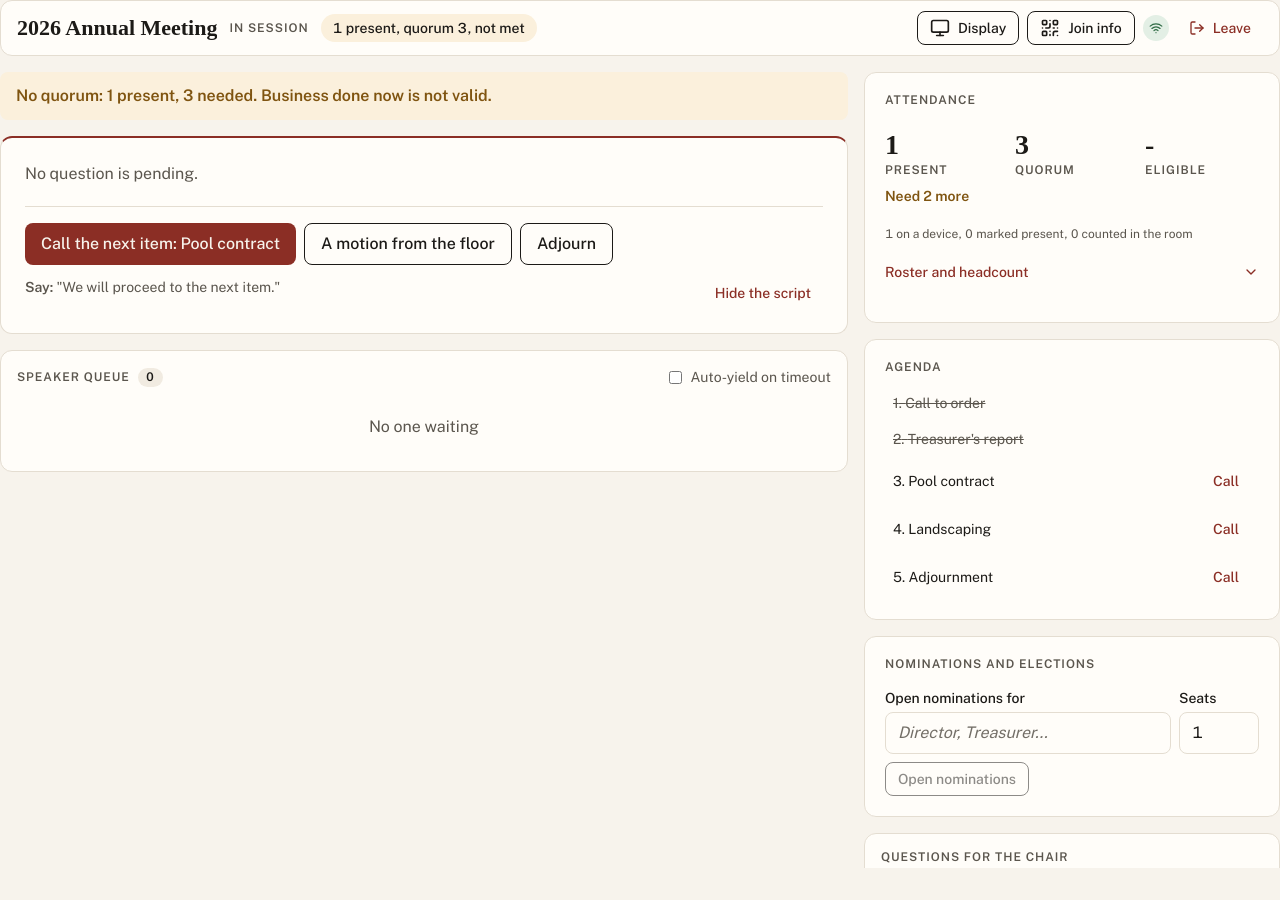
ChairConsole › adjourning › closes the confirmation when the meeting moves on while it is open
This screenshot has width=1280, height=900.
Click the button "Adjourn" at (567, 244), box [520,223,613,265]
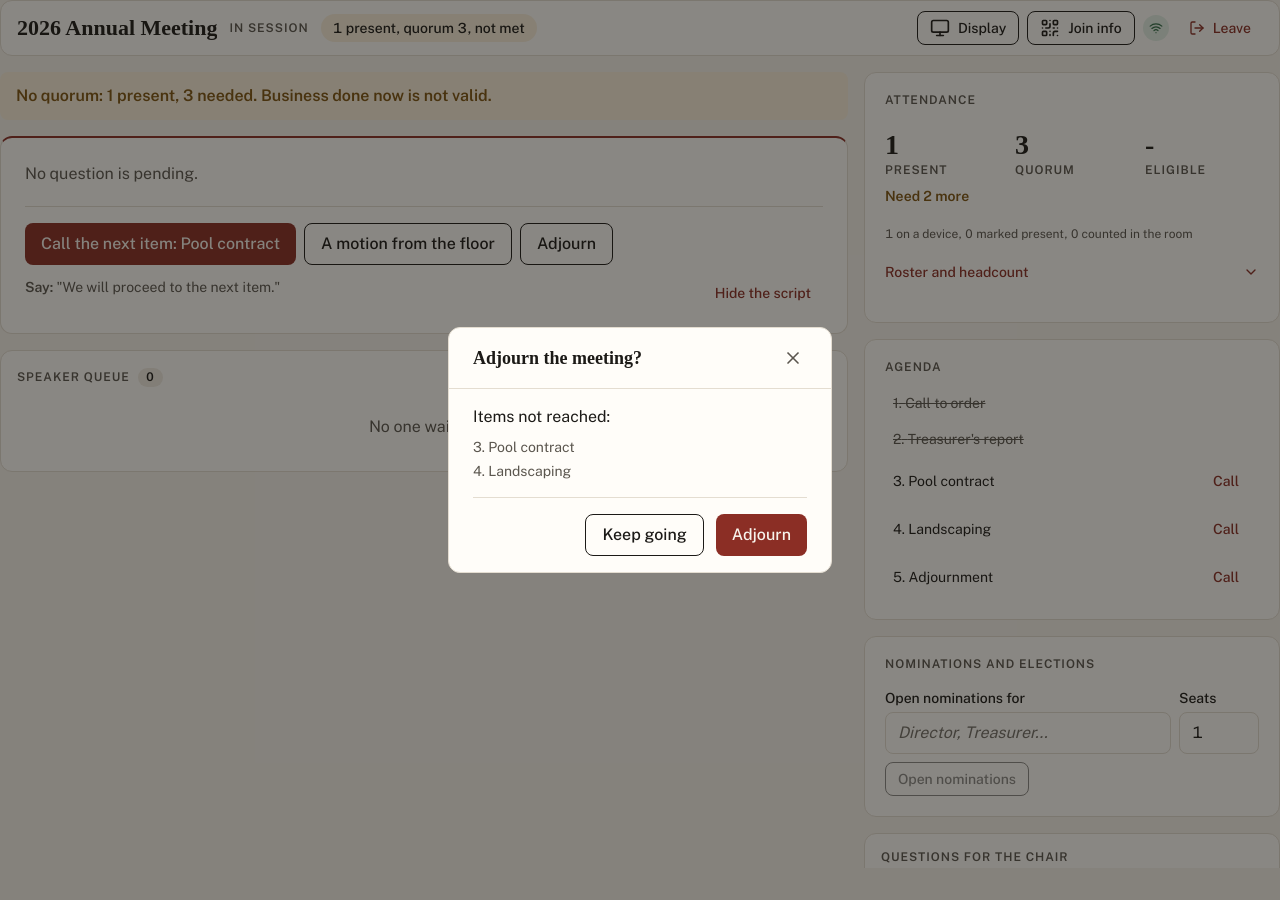
Expected: the dialog "Adjourn the meeting?" is shown, [448,327,832,573]
